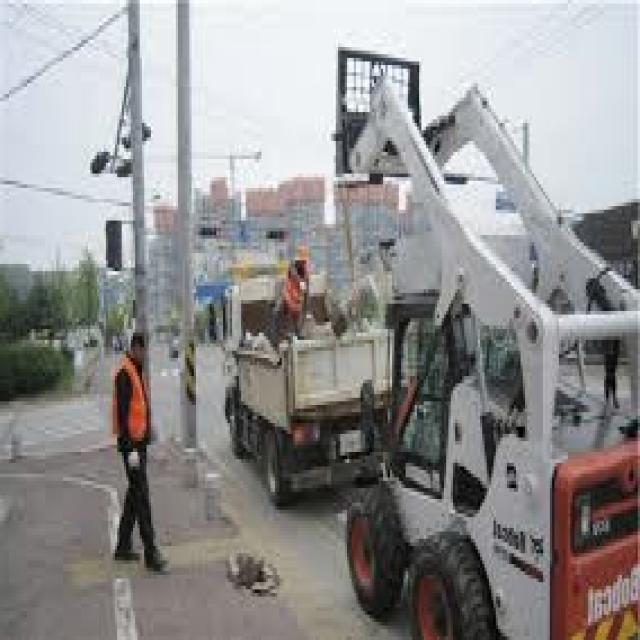bollard: (204, 462, 226, 530), (182, 448, 203, 499), (6, 425, 26, 470)
